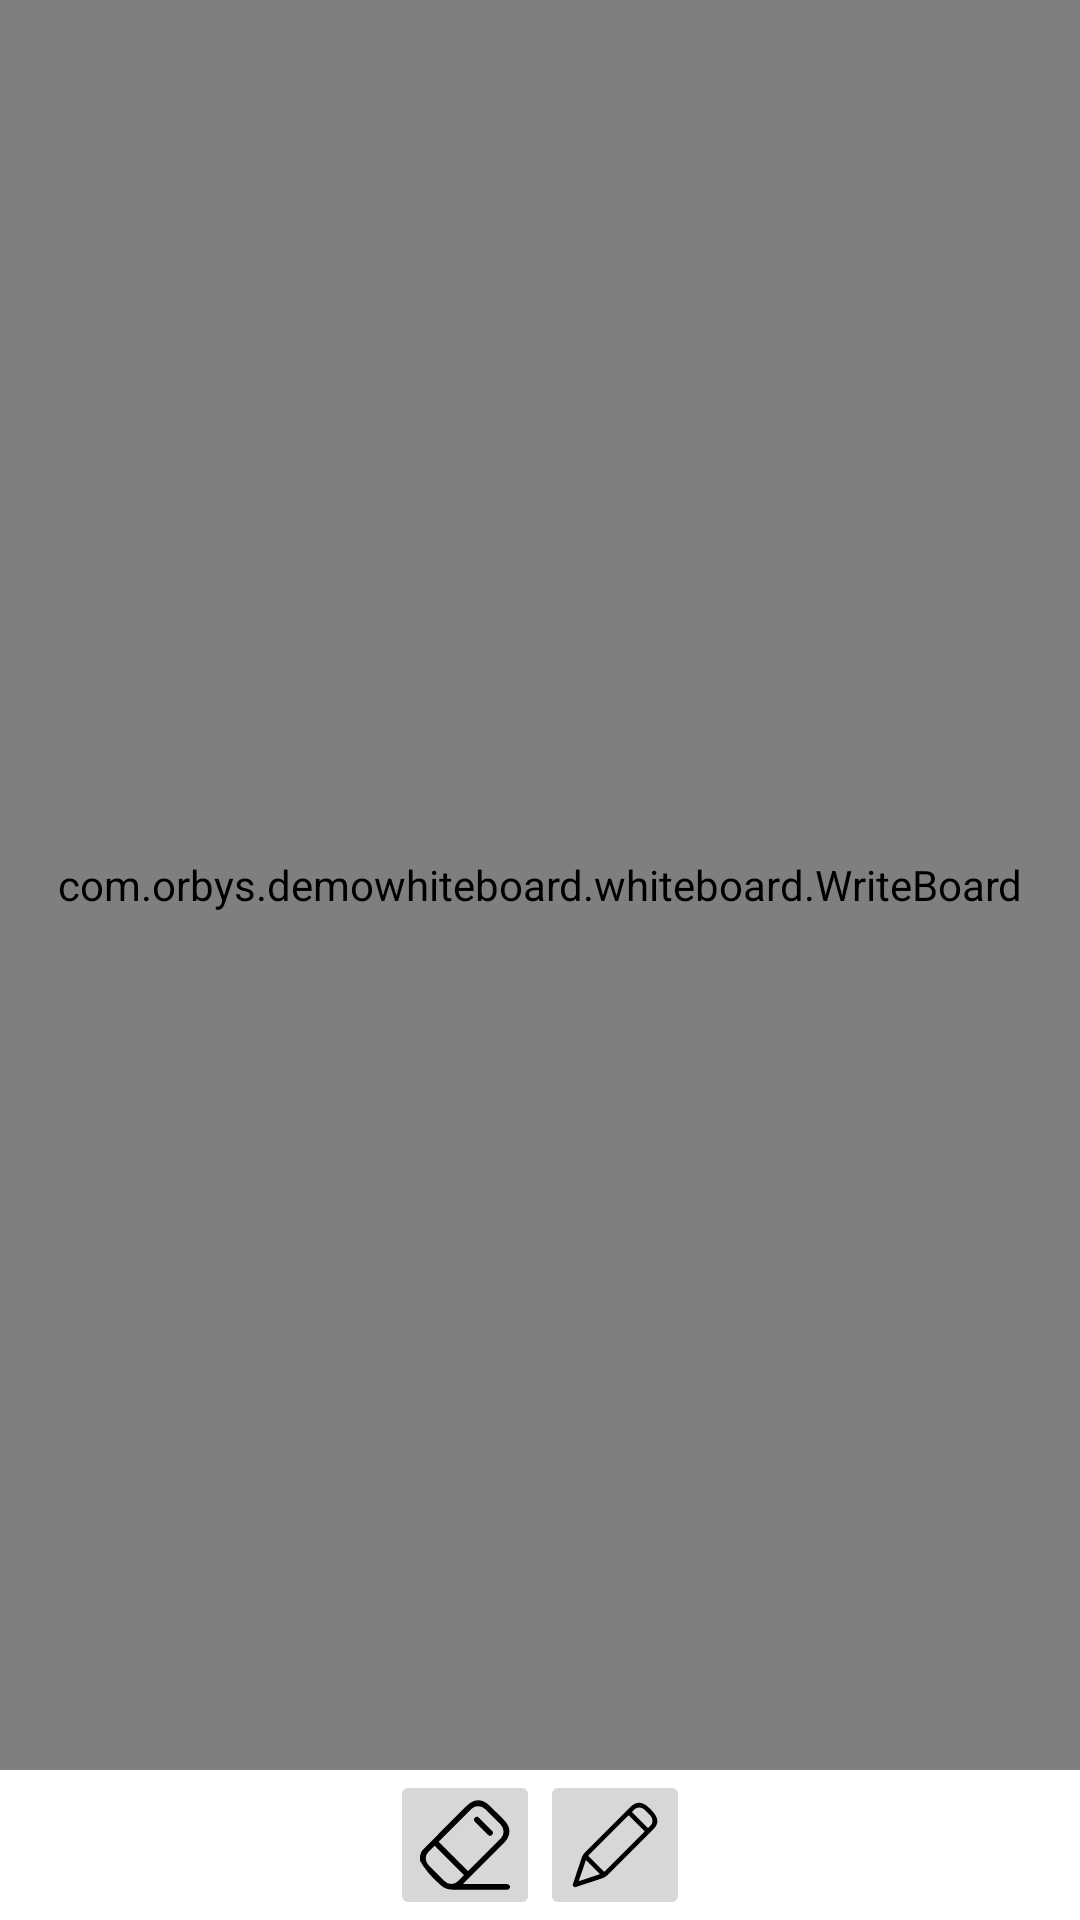

Icon click points for this 1080×1920 phone screenshot, format point (x, y):
eraser: point (465, 1845)
pen: point (615, 1845)
